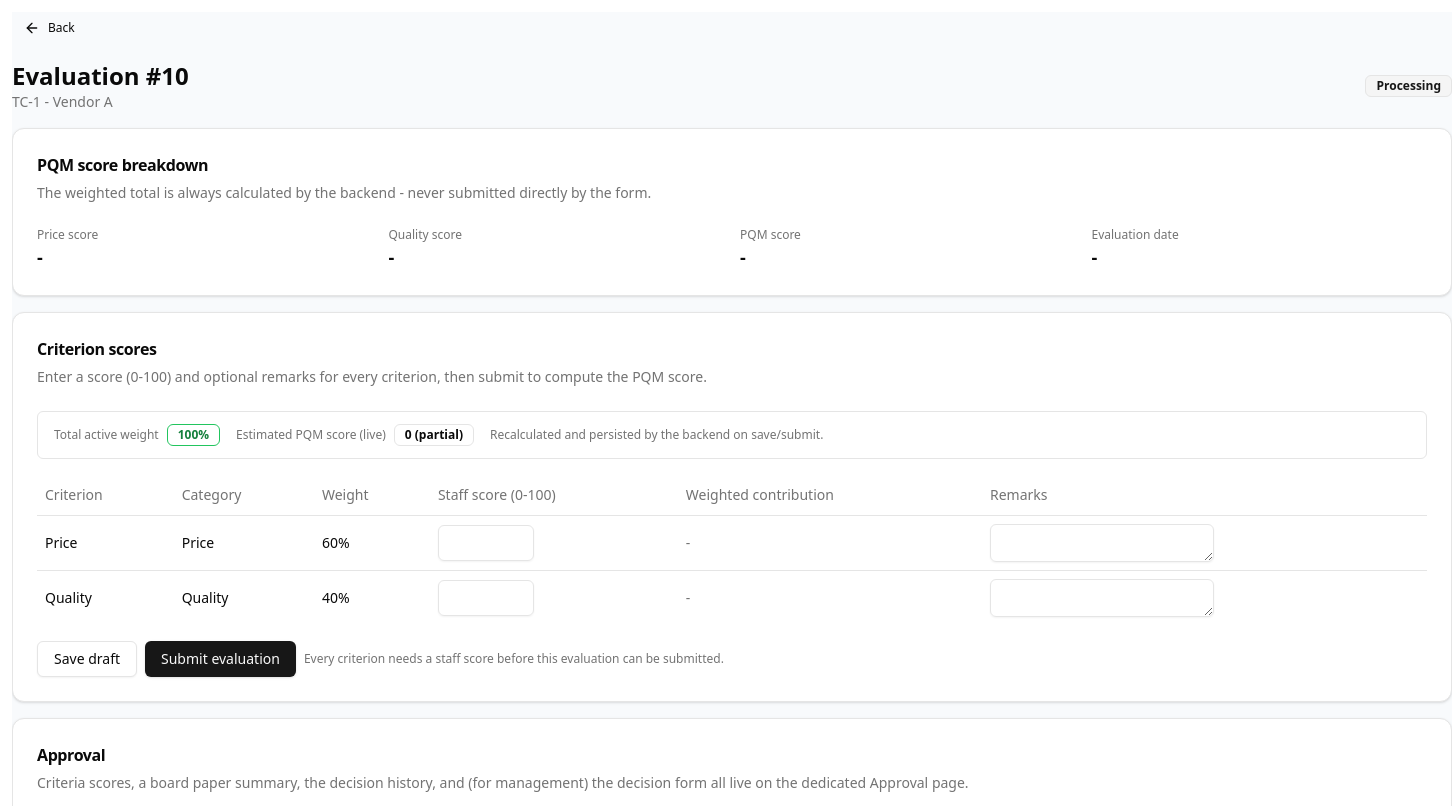
Test case: EvaluationDetailPage (Jerrold - Scope B) › lets an evaluator score every criterion and submit the evaluation
Type "80" into the number field next to "60".
click(486, 542); type("80")  # box top-left (438, 524), bottom-right (534, 560)
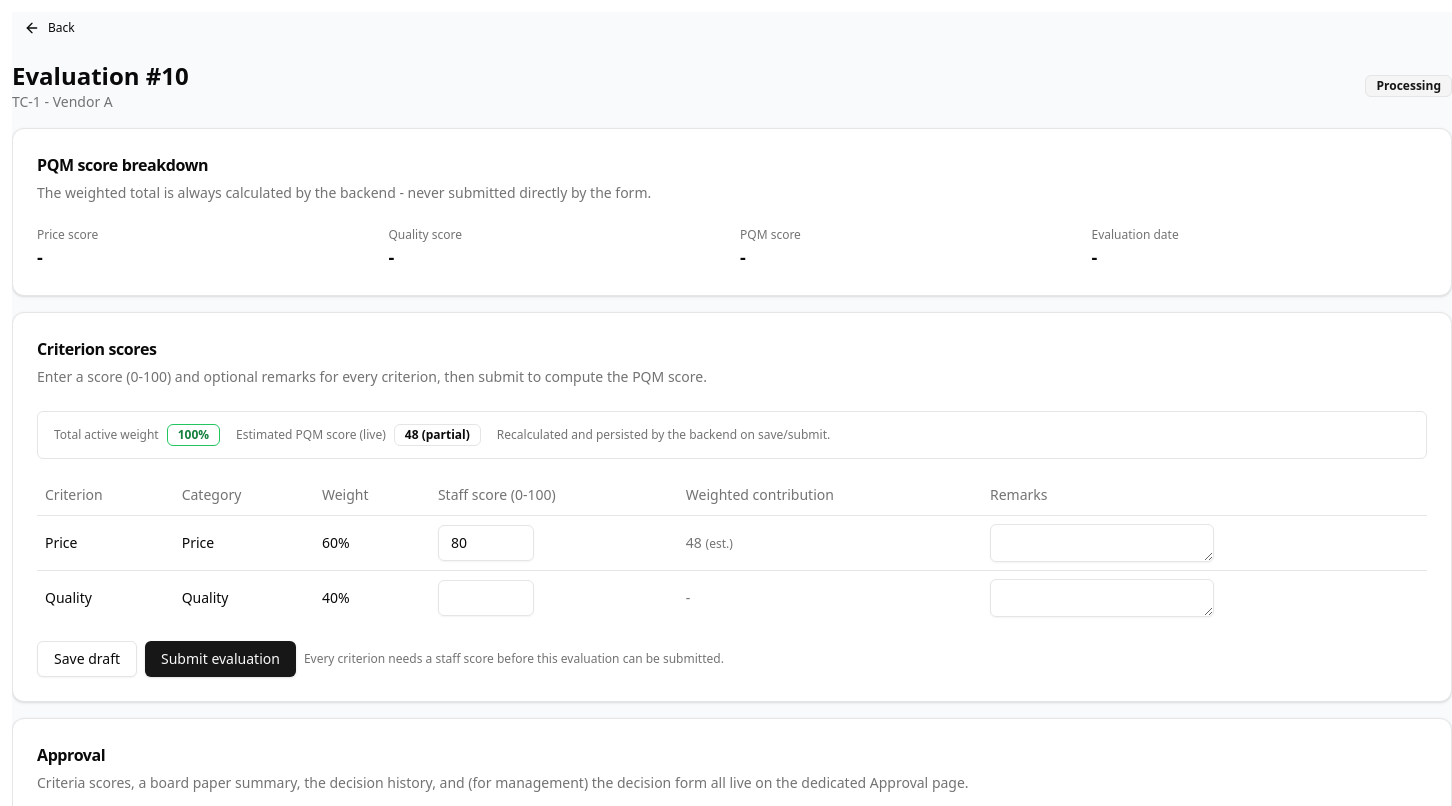
Type "90" into the number field next to "40".
click(486, 598); type("90")  # box top-left (438, 580), bottom-right (534, 616)
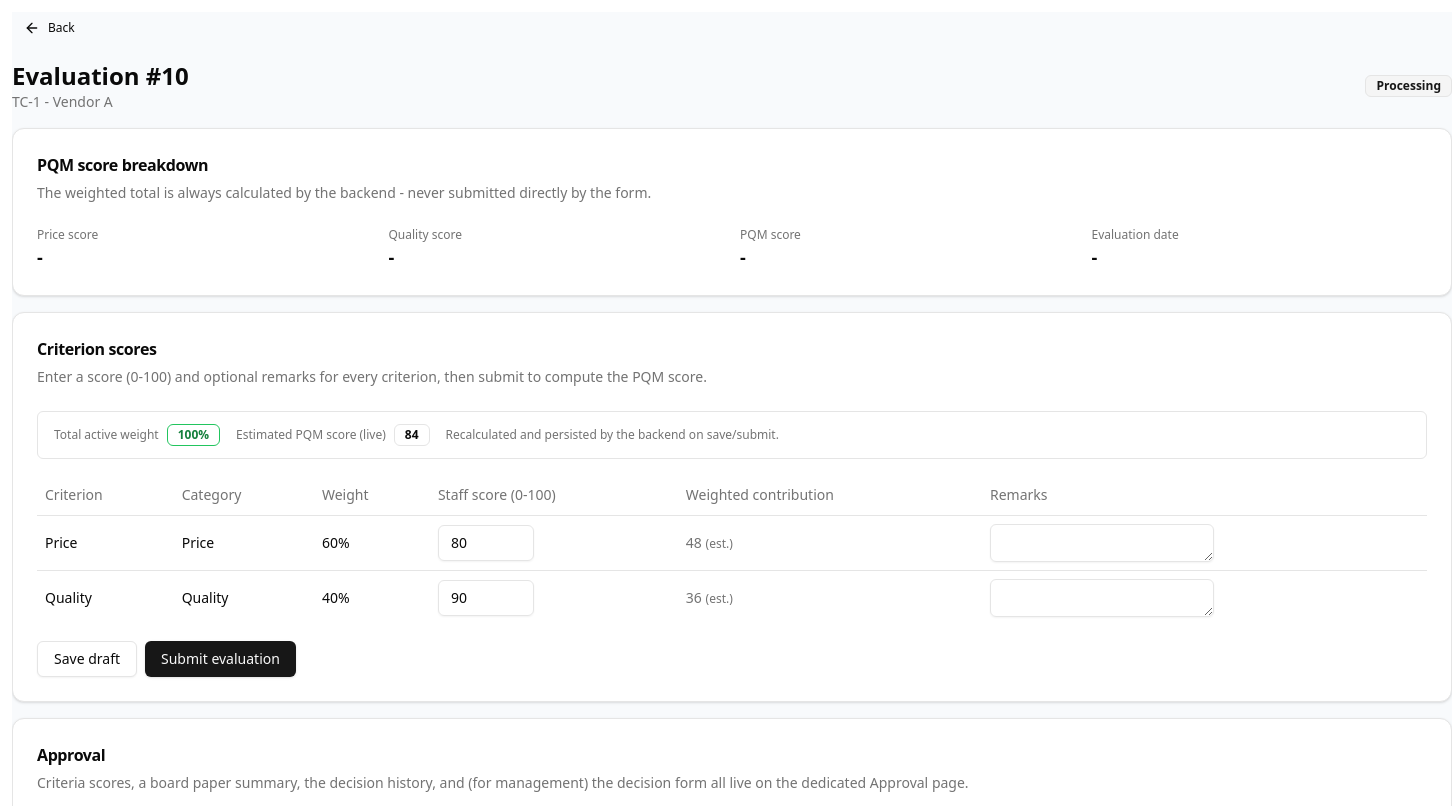
Click the button "Submit evaluation".
click(220, 658)  # box top-left (145, 640), bottom-right (296, 676)
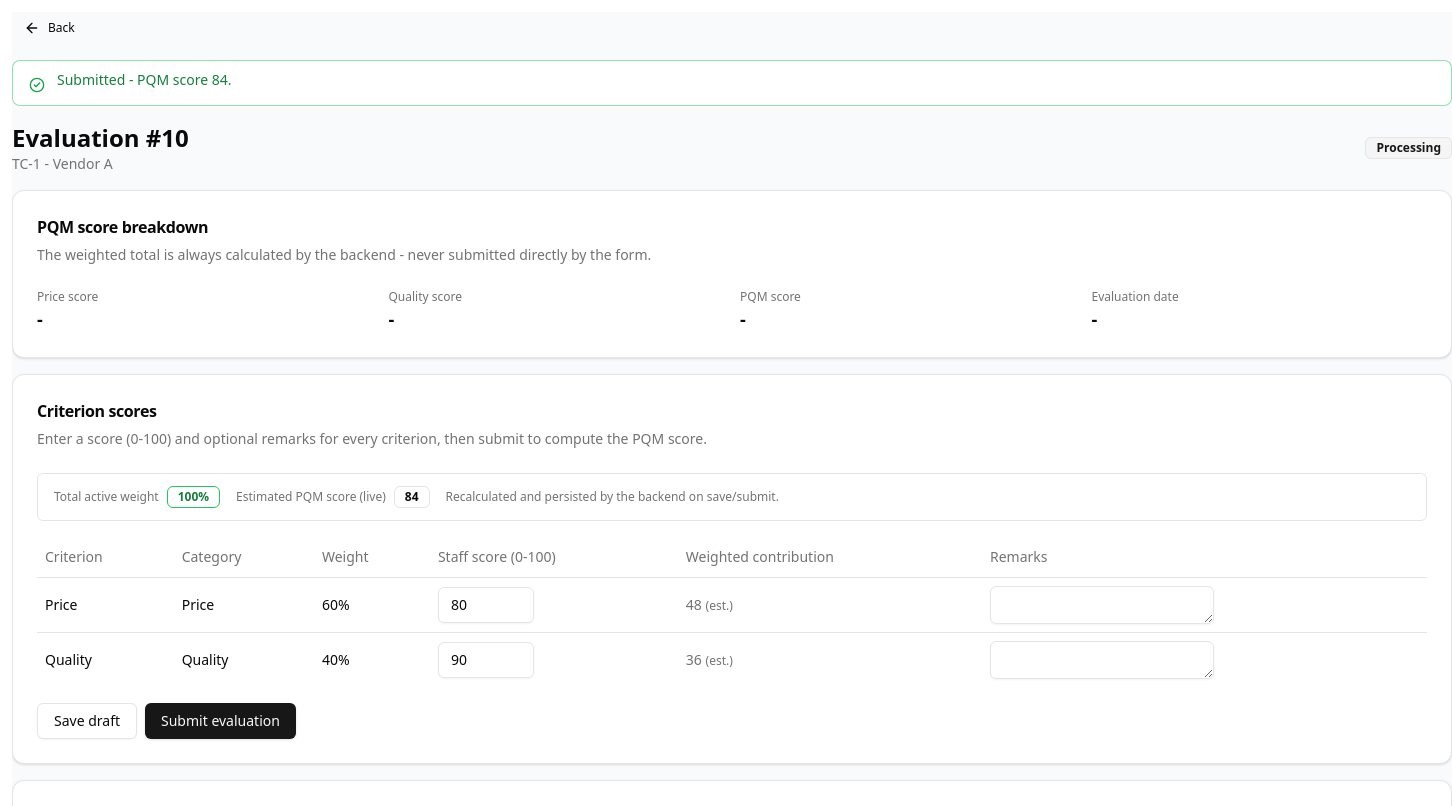
Result: the text "Submitted - PQM score 84." is shown at top-left (57, 70), bottom-right (232, 89)
